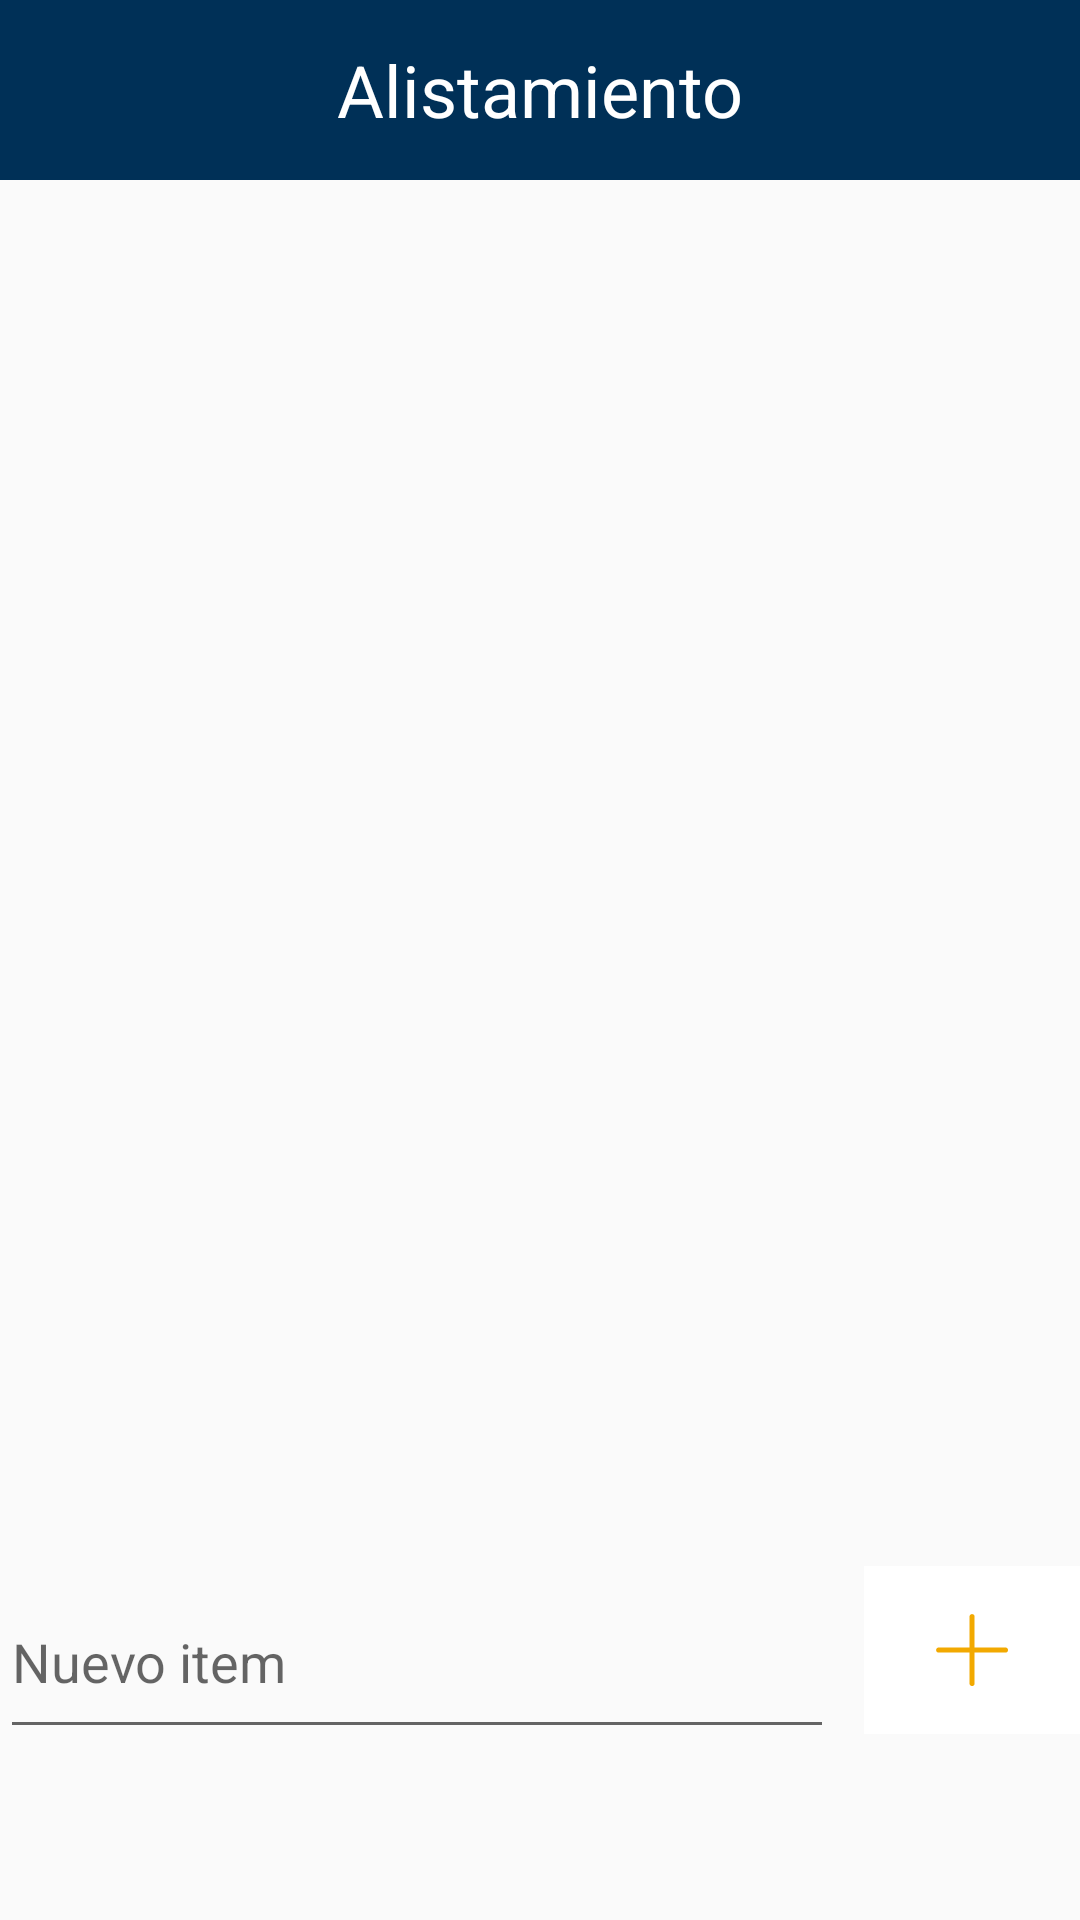

Screen size 1080×1920. Icon name, then its center in pixels as (x,y):
plus symbol: (972,1650)
